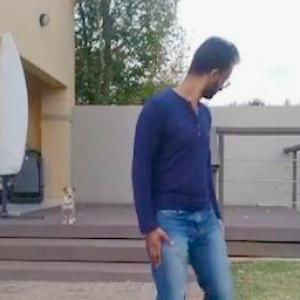follow: (131, 26, 259, 299)
